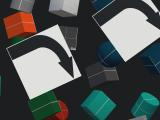Right: (7, 24, 82, 100), (92, 0, 160, 62)
